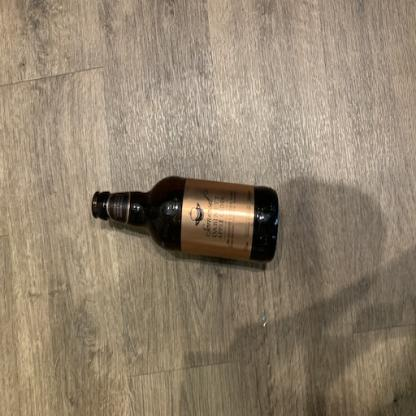trash: (92, 174, 278, 264)
